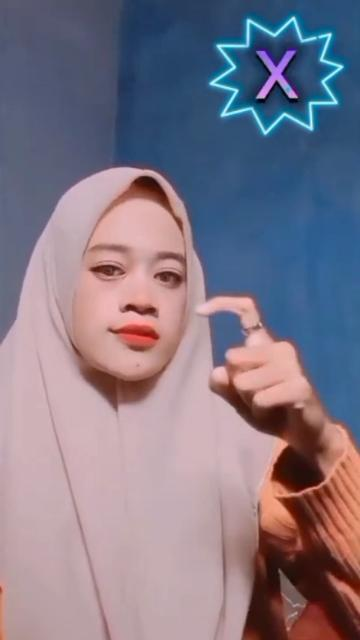X: (196, 291, 336, 449)
